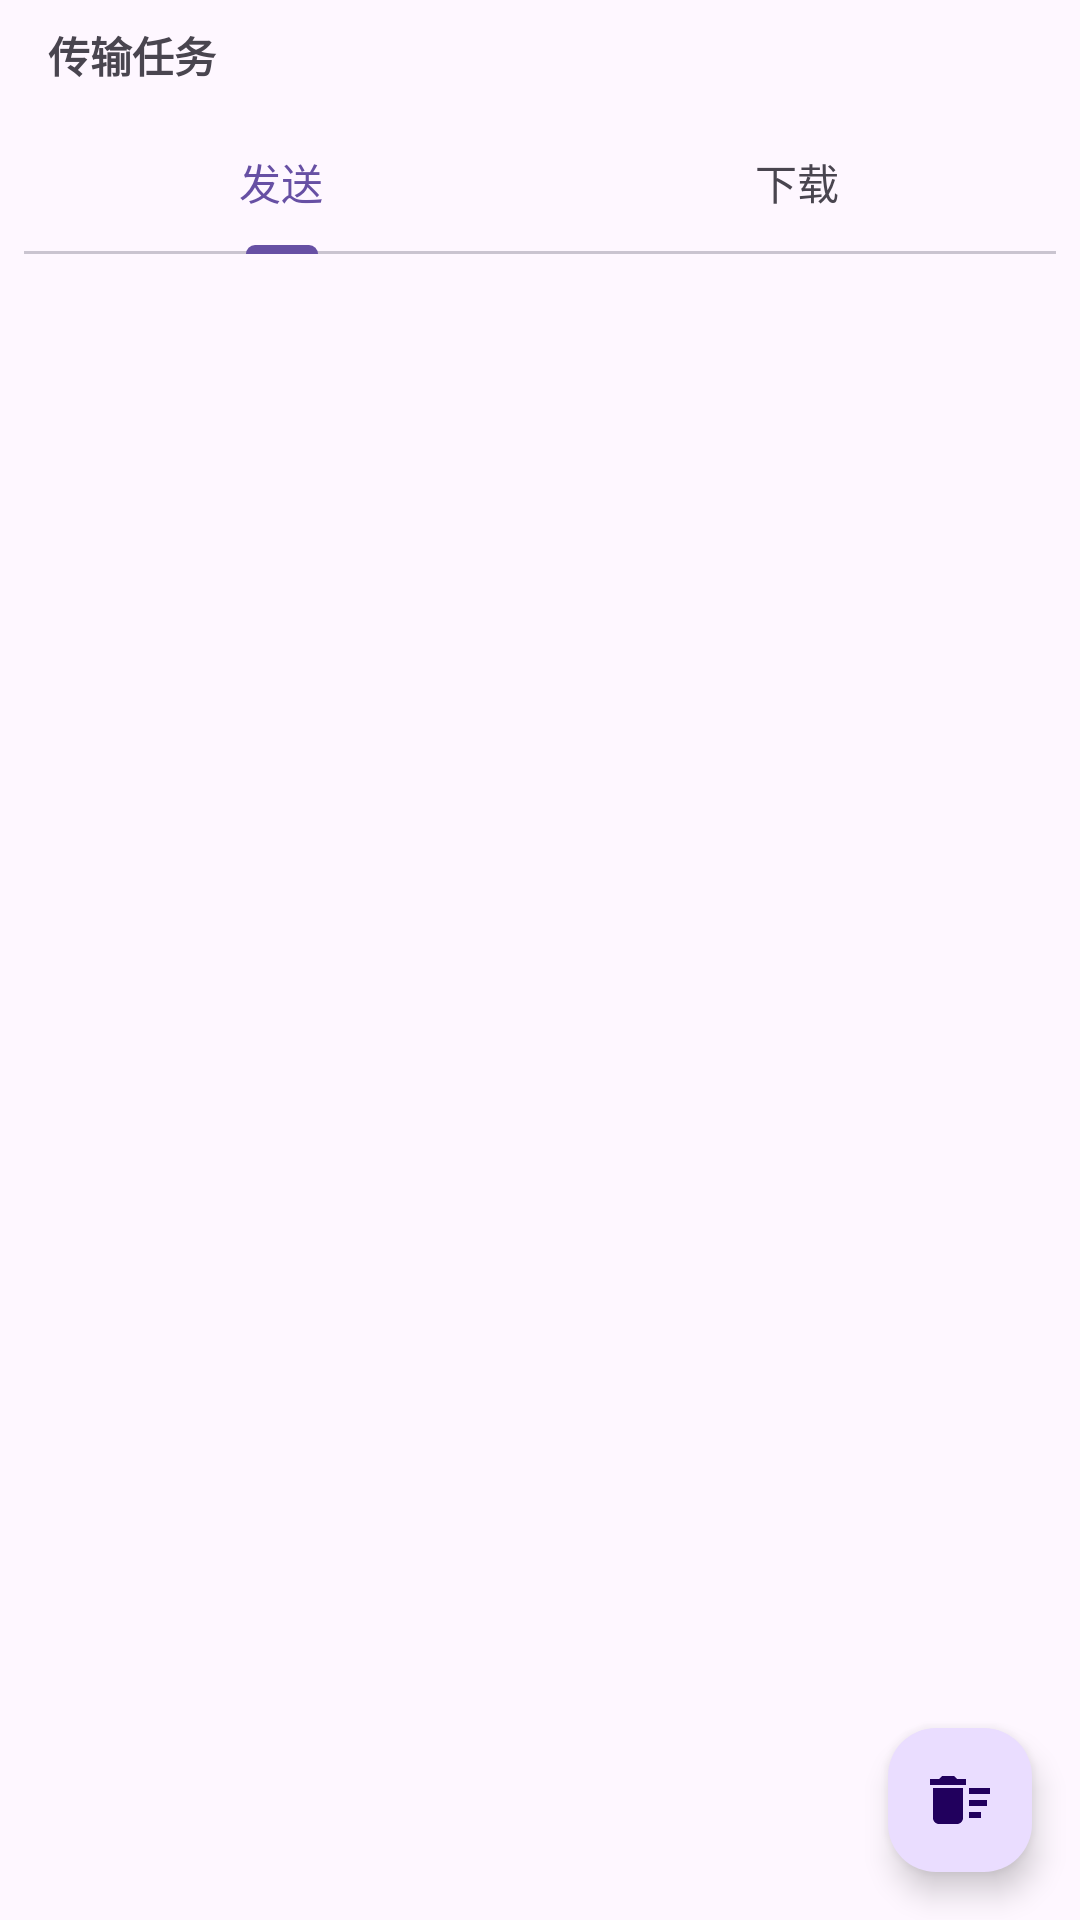

Icon bounding boxes for this 1080 × 1920 phone screenshot, format (x1, y1, x2, y2):
清空任务记录: (888, 1728, 1032, 1872)
